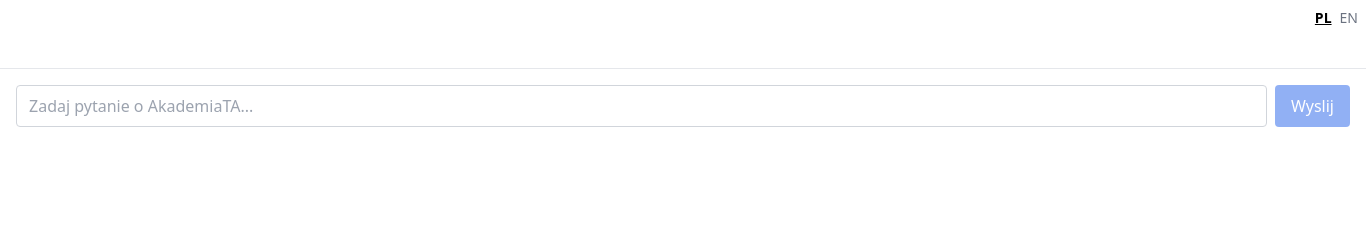
Scenario: ChatWindow › renders the fallback message without a confidence badge
In the field with placeholder "Zadaj pytanie o AkademiaTA...": (641, 106) [16,85,1267,127], type "Jaka jest pogoda?"
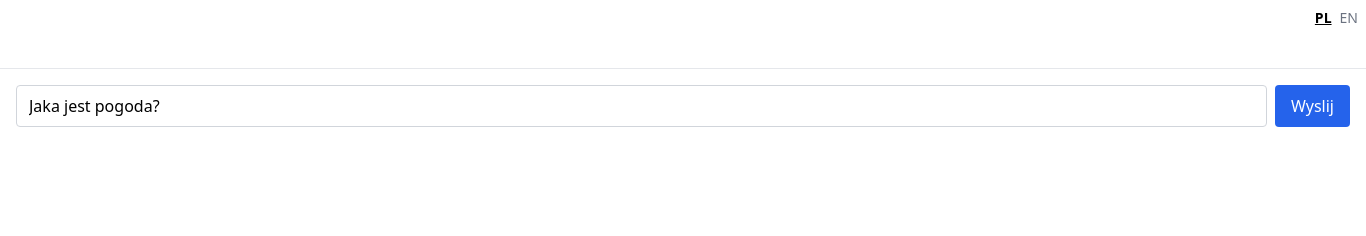
Click the button "Wyslij": (1312, 106) [1275,85,1350,127]
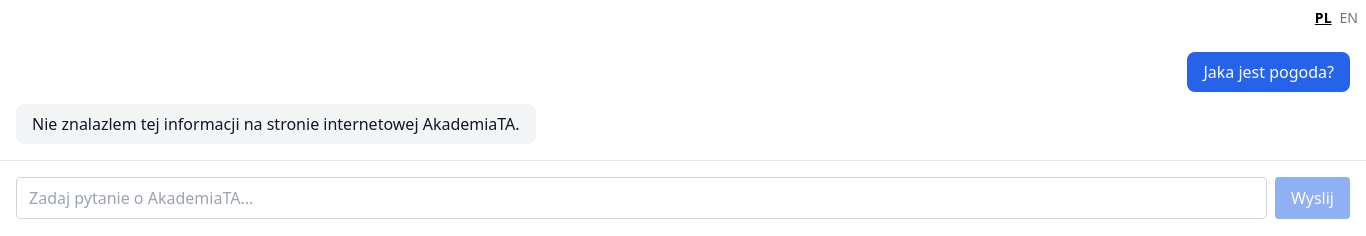
Now the text "Nie znalazlem tej informacji na stronie internetowej AkademiaTA." is shown, box [32,112,520,136]
